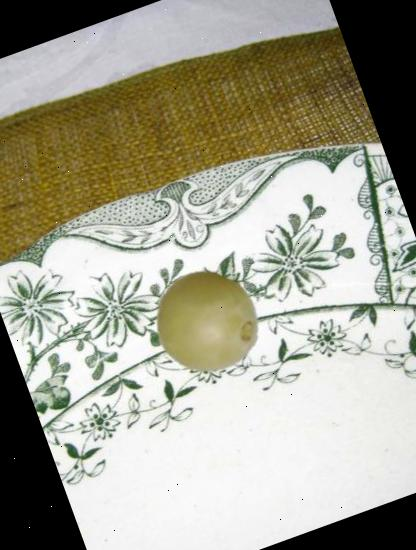Grape: (139, 254, 275, 390)
